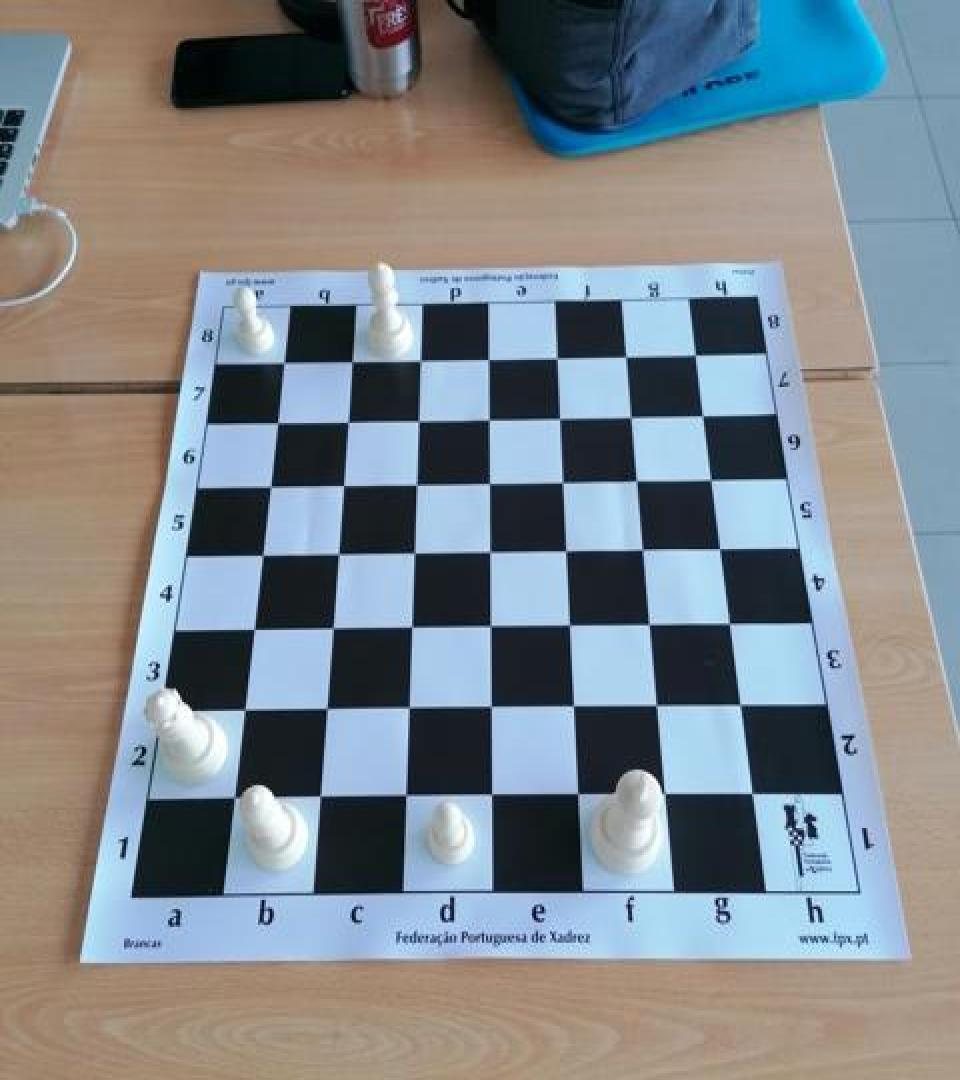xcorner: (271, 345, 301, 379), (264, 405, 294, 439), (256, 468, 286, 502), (247, 538, 277, 572), (238, 612, 268, 646), (227, 693, 257, 727), (216, 780, 246, 814), (339, 343, 369, 377), (328, 467, 358, 501), (322, 536, 352, 570), (316, 611, 346, 645), (309, 692, 339, 726), (302, 780, 332, 814), (407, 342, 437, 376), (404, 402, 434, 436), (398, 536, 428, 570), (395, 610, 425, 644), (392, 692, 422, 726), (388, 780, 418, 814), (475, 341, 505, 375), (475, 400, 505, 434), (475, 534, 505, 568), (475, 690, 505, 724), (475, 780, 505, 814), (543, 338, 573, 372), (546, 399, 576, 433), (549, 464, 579, 498), (552, 533, 582, 567), (555, 608, 585, 642), (558, 690, 588, 724), (562, 778, 592, 812), (617, 397, 647, 431), (623, 462, 653, 496), (629, 531, 659, 565), (635, 608, 665, 642), (650, 778, 680, 812), (682, 336, 712, 370), (689, 396, 719, 430), (698, 460, 728, 494), (706, 530, 736, 564), (716, 606, 746, 640), (738, 777, 768, 811), (334, 403, 364, 436), (401, 466, 431, 499), (475, 465, 505, 498), (475, 609, 505, 642), (612, 338, 642, 371), (642, 689, 672, 722), (726, 689, 756, 722)
